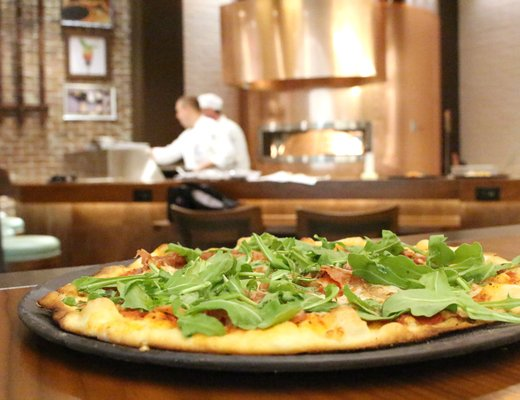curry: (1, 243, 453, 396)
pasta: (294, 198, 400, 240)
sandwich: (27, 228, 519, 355)
